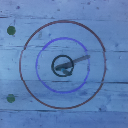Axe Tip: (62, 65, 74, 68)
